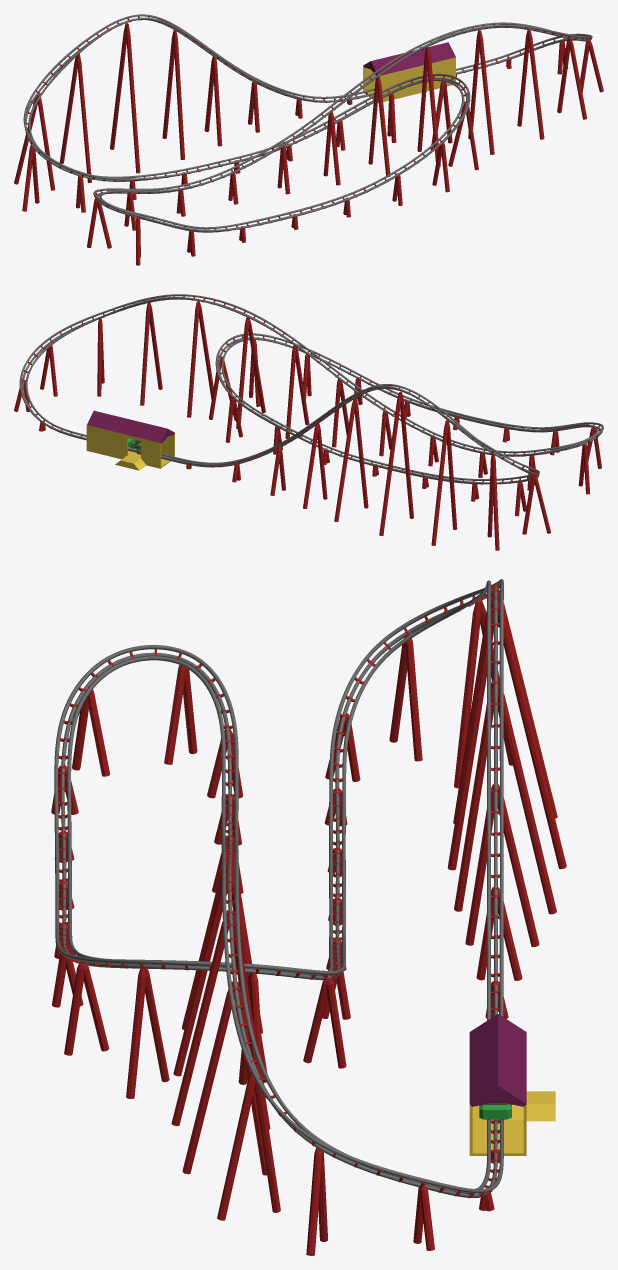
The model's file is Coaster.fbx.
The picture shows the model from 3 angles, top to bottom: view 1: azimuth 30°, elevation 25°; view 2: azimuth 150°, elevation 25°; view 3: azimuth 270°, elevation 25°; orthographic projection. The views are drawn at different scales.
Visible parts, largest first — view 1: GeometryNodes, Coaster_Cabin; view 2: GeometryNodes, Coaster_Cabin; view 3: GeometryNodes, Coaster_Cabin.
Boxes of the visible parts, left/top/right/bottom form: GeometryNodes: left=14, top=14, right=603, bottom=265; Coaster_Cabin: left=363, top=42, right=455, bottom=103; GeometryNodes: left=14, top=294, right=603, bottom=550; Coaster_Cabin: left=86, top=410, right=174, bottom=470; GeometryNodes: left=51, top=579, right=566, bottom=1255; Coaster_Cabin: left=469, top=1014, right=555, bottom=1155.
Bounding box in the file's own units: 3621 × 8622 × 2157.
